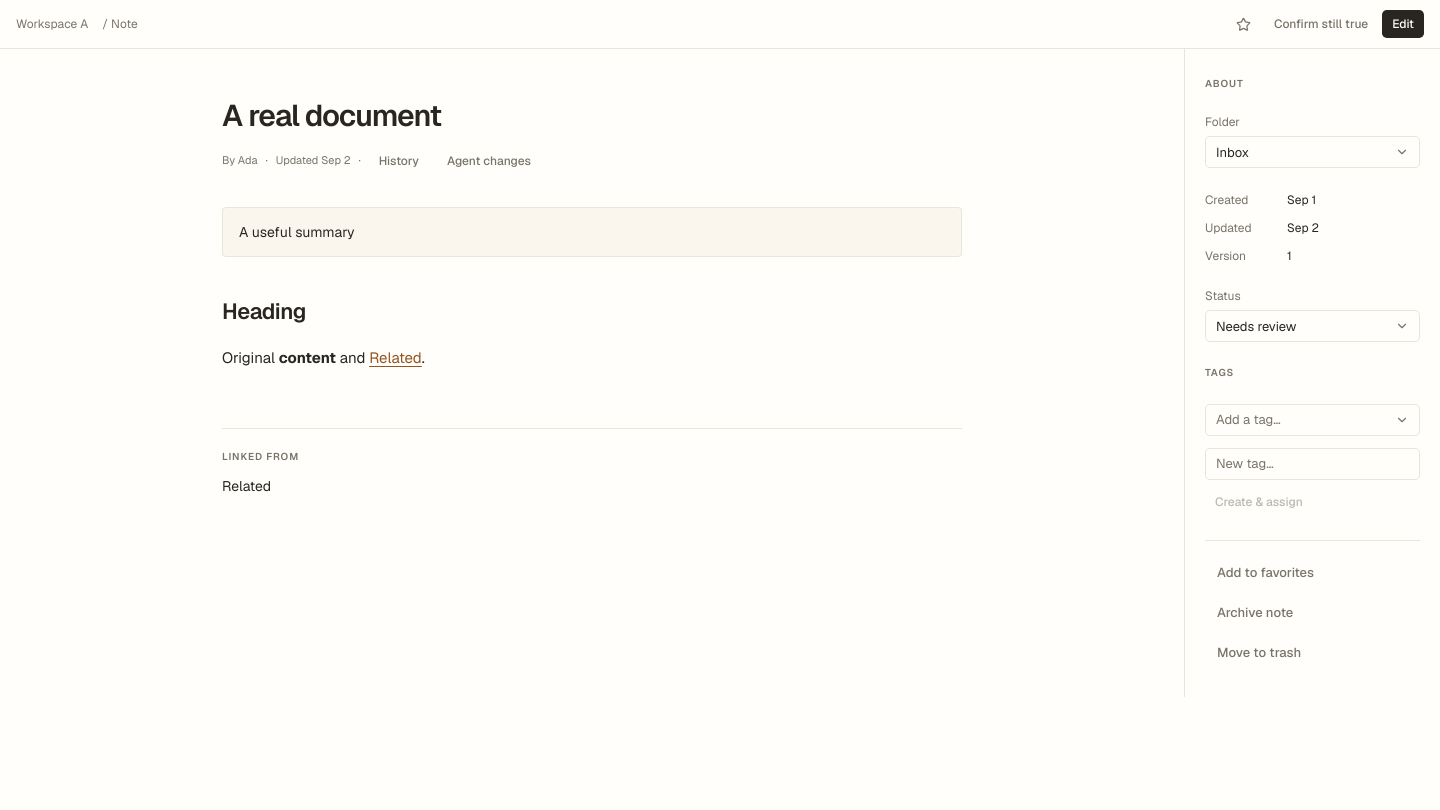
Test: document interactions › saves versioned edits and supports cancel without mutation
Click the button "Edit" at [1403, 24], box [1382,10,1424,38]
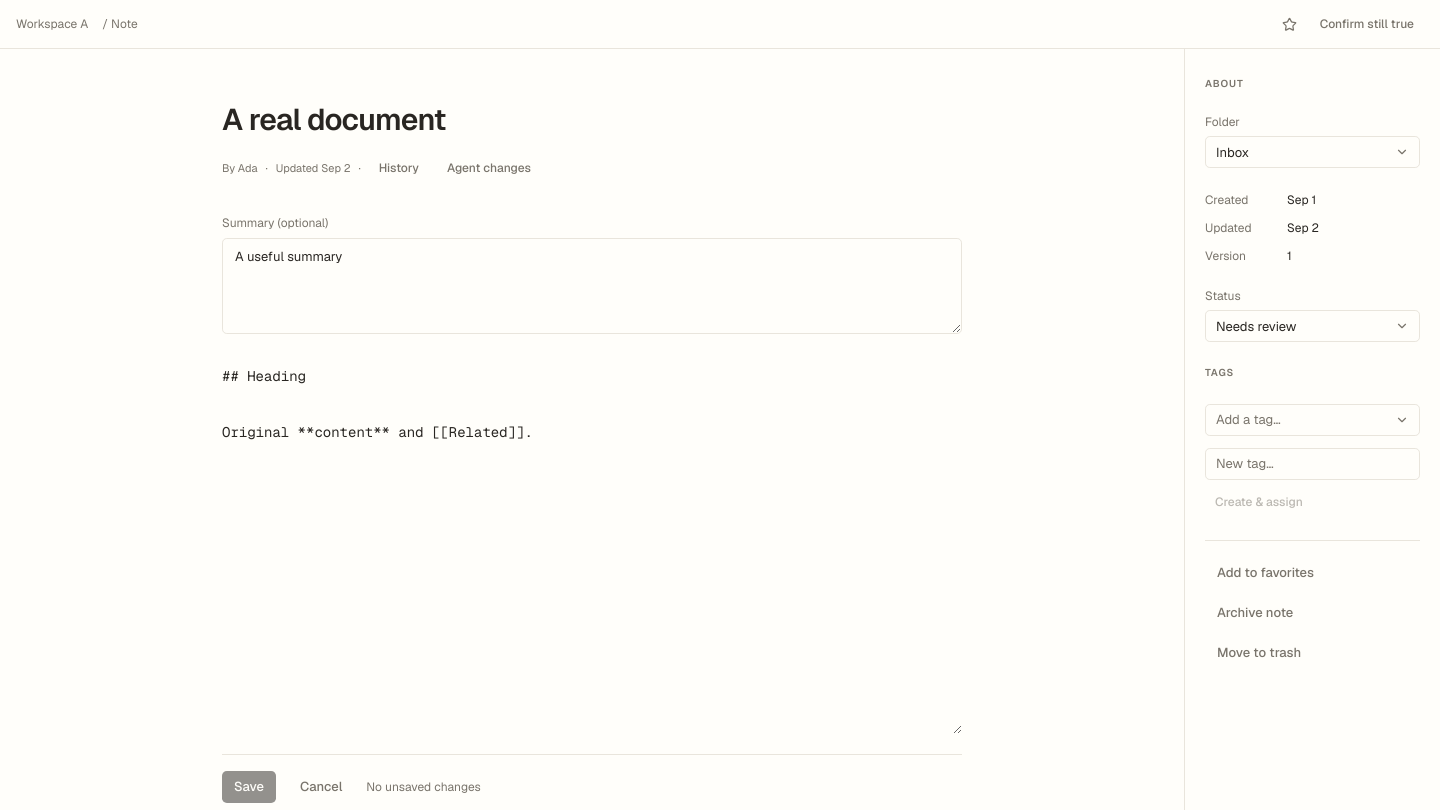
Type " Draft" into the text box named "Note content" at [592, 544], box [222,354,962,734]
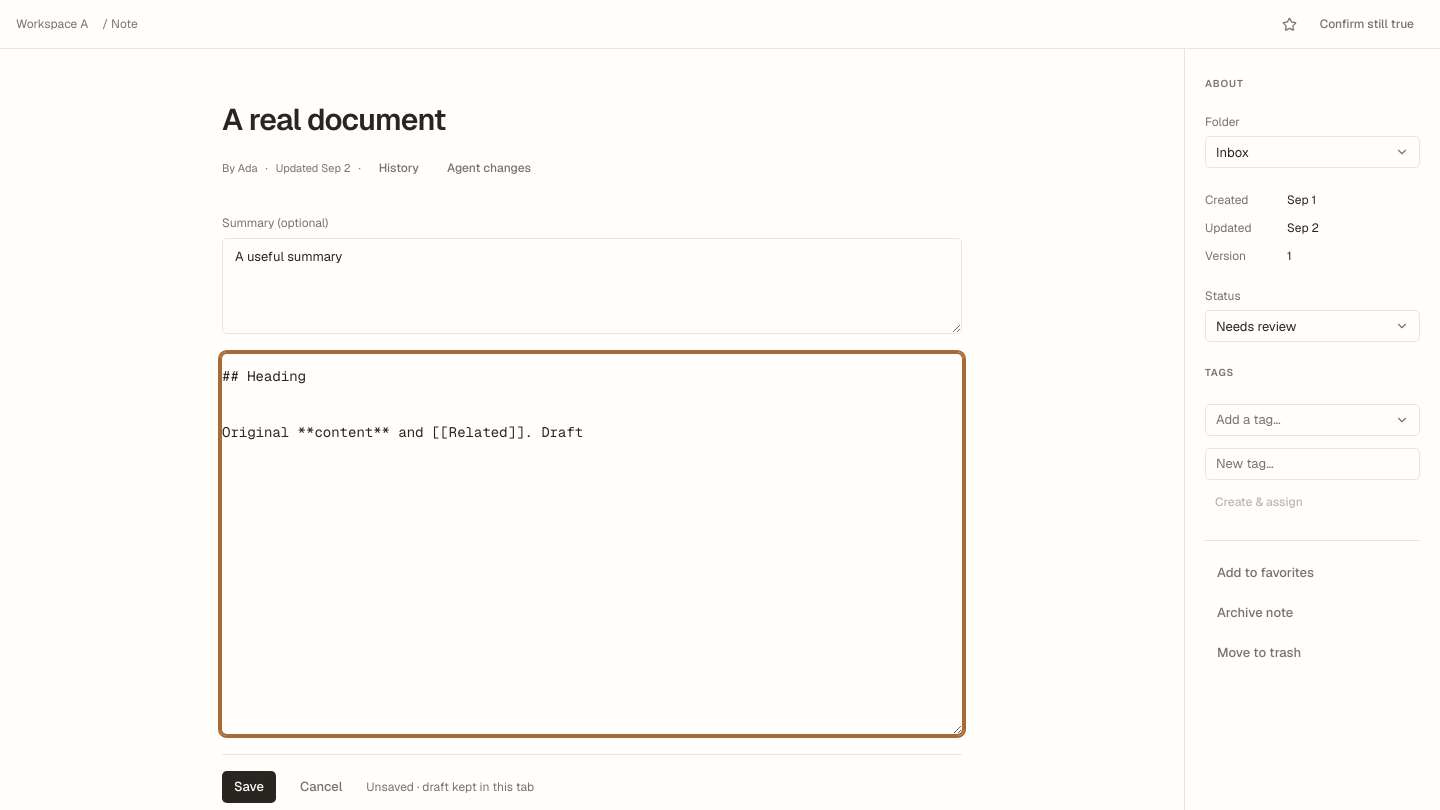
Check: the message shows "Unsaved", box [366,779,534,795]
Click the button "Save" at [249, 787], box [222,771,276,803]
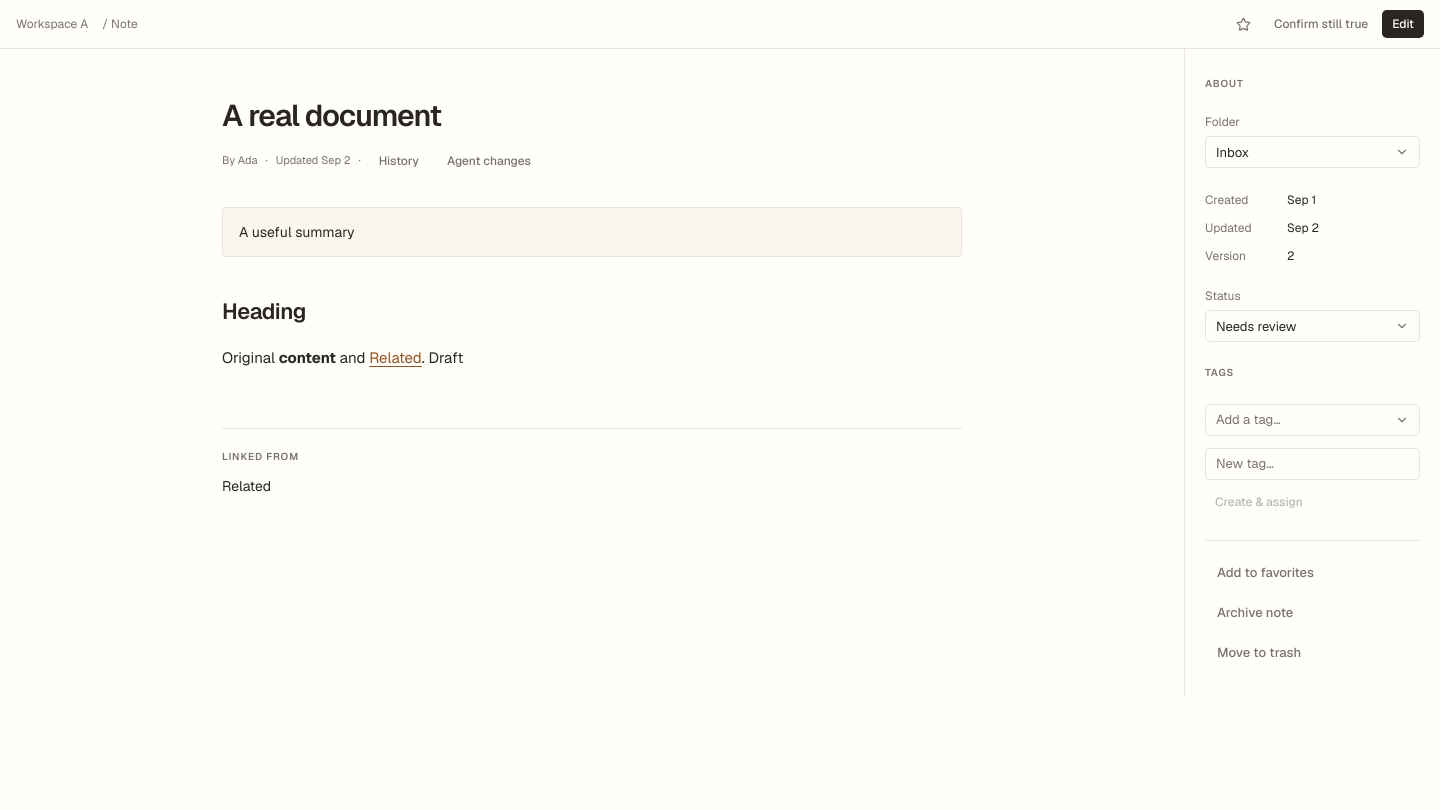
Check: the button "Edit" is shown
Click the button "Edit" at [1403, 24], box [1382,10,1424,38]
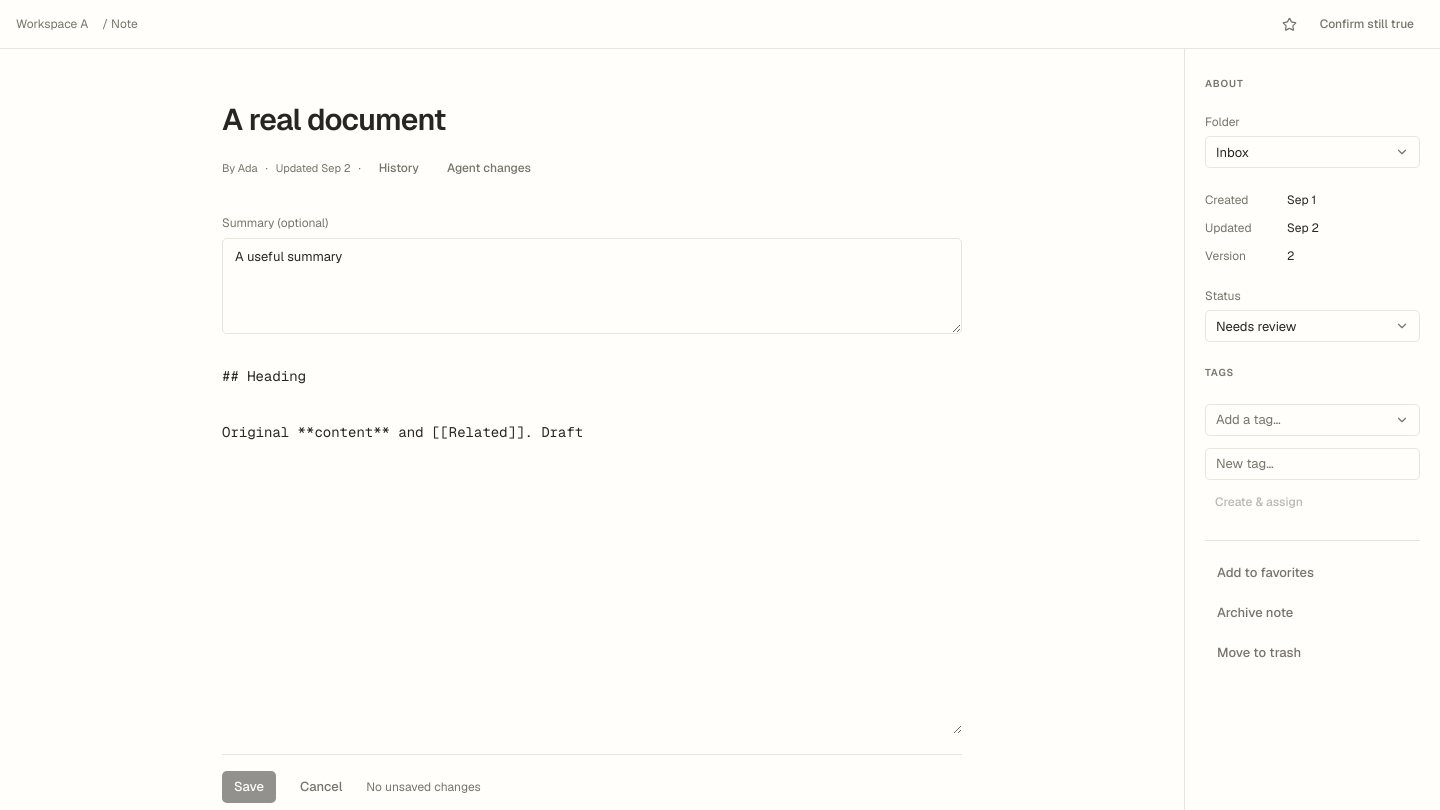
Type " discard" into the field named "Title" at [592, 120], box [222,97,962,142]
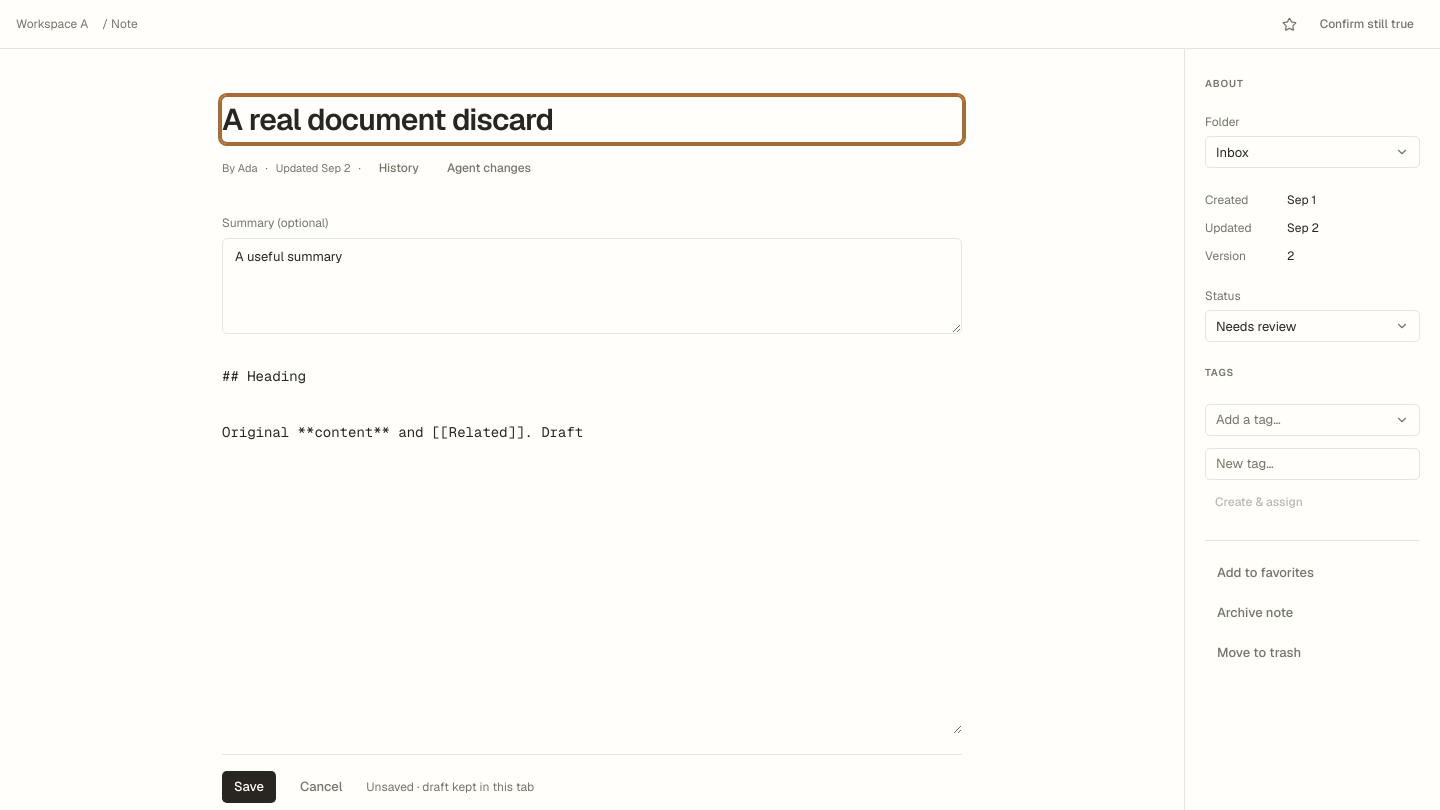
Click the button "Cancel" at [321, 787], box [288,771,354,803]
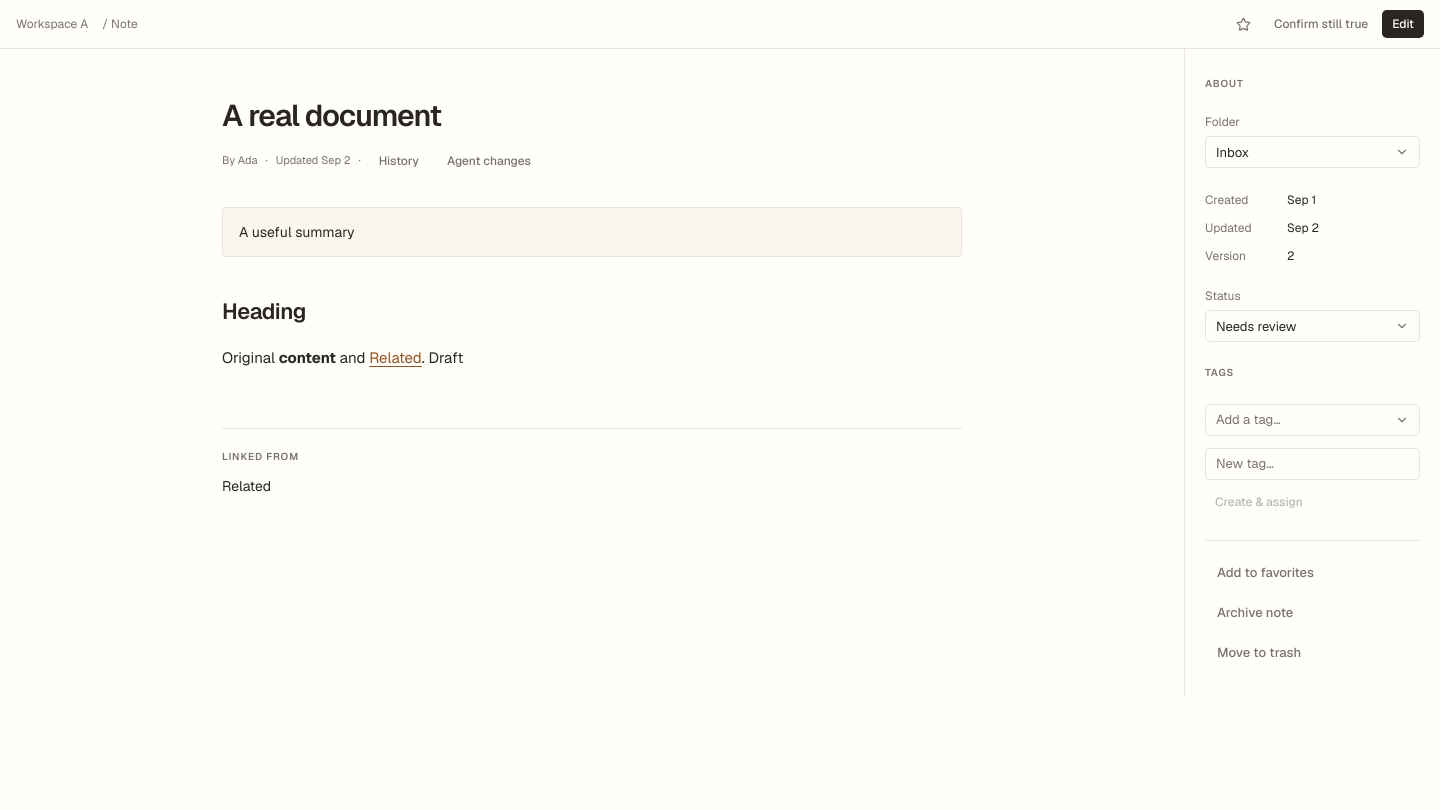
Check: the heading "A real document" is shown, box [222,96,441,135]
